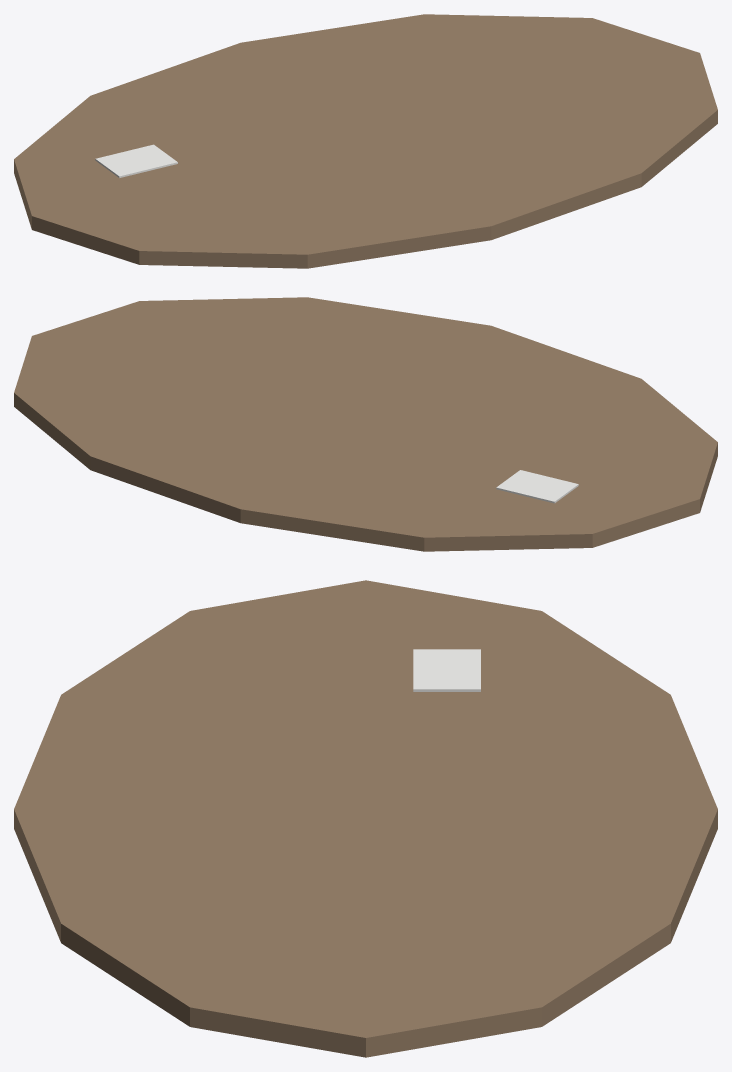
Rendered from prop-palette-board-blank.fbx.
3 renders of one model, top to bottom at view 1: azimuth 30°, elevation 25°; view 2: azimuth 150°, elevation 25°; view 3: azimuth 270°, elevation 25°, orthographic. The views are drawn at different scales.
Parts seen in each view (by area): view 1: prop-palette-board-blank; view 2: prop-palette-board-blank; view 3: prop-palette-board-blank.
Boxes of the visible parts, x1=… form: prop-palette-board-blank: x1=14, y1=14, x2=717, y2=268; prop-palette-board-blank: x1=14, y1=297, x2=717, y2=551; prop-palette-board-blank: x1=14, y1=580, x2=717, y2=1057.
Size of the model in its own units: 40 by 0.9 by 26.
